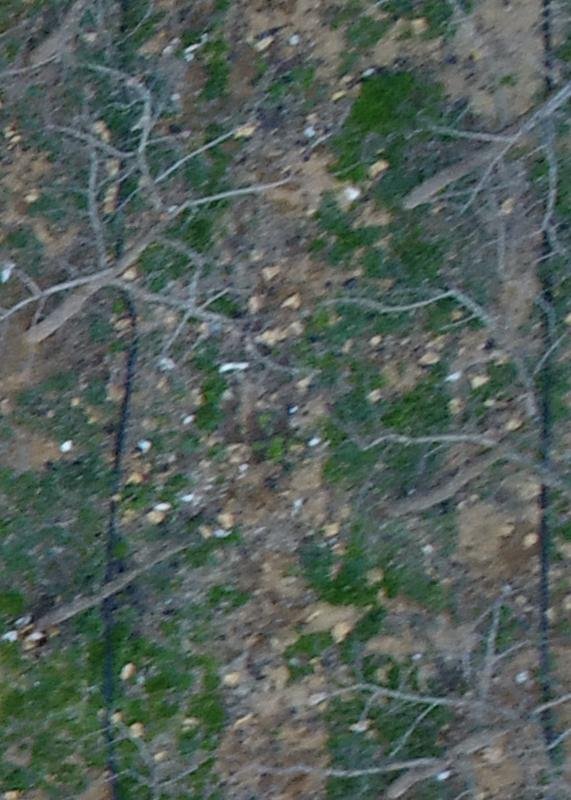apple: (10, 42, 296, 381), (10, 435, 268, 704)
